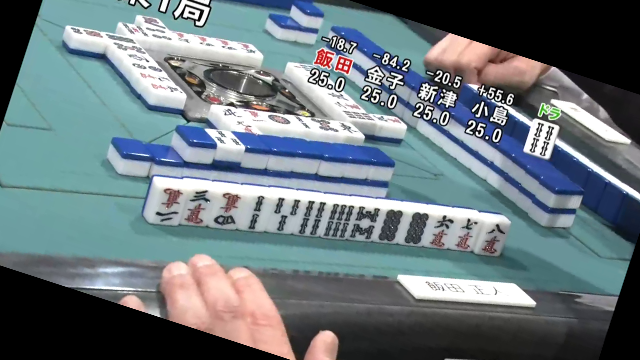Tehai: (142, 175, 516, 257)
